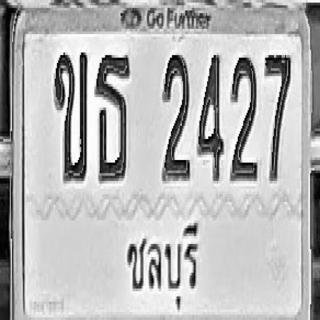A02: (54, 50, 88, 181)
A24: (95, 53, 130, 181)
N02: (162, 53, 190, 181), (230, 54, 258, 180)
N04: (197, 53, 223, 181)
N07: (265, 53, 291, 181)
P13: (121, 213, 202, 315)
